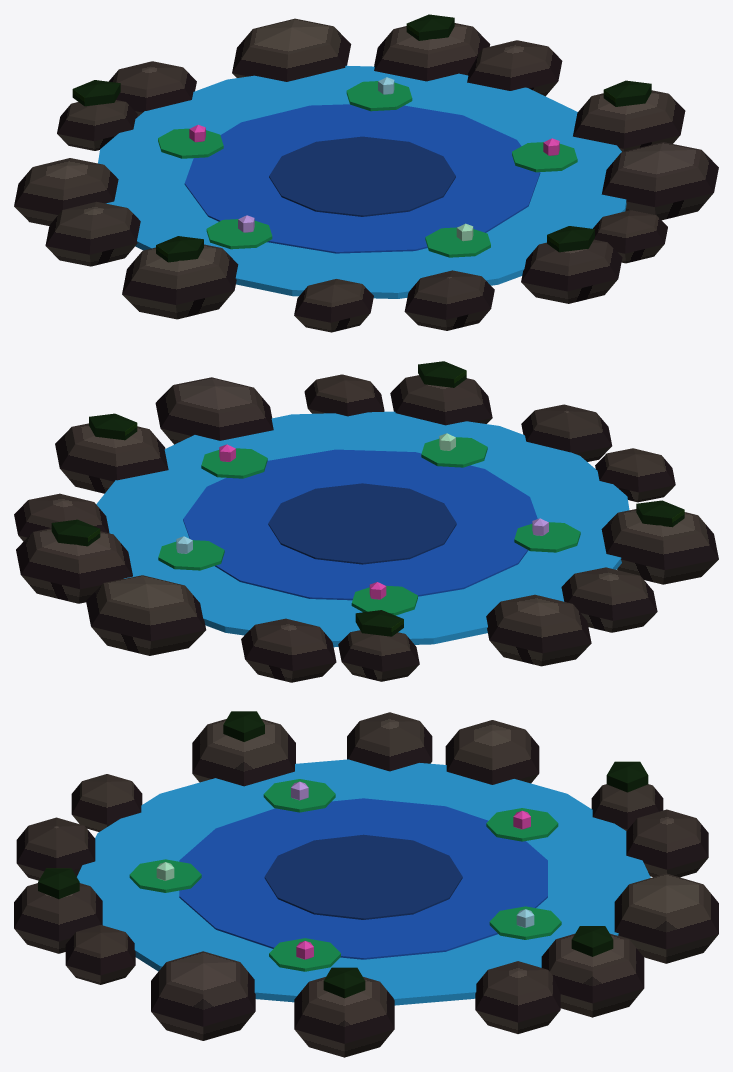
File: glow_pool.glb
3 renders of one model, top to bottom at view 1: azimuth 30°, elevation 25°; view 2: azimuth 150°, elevation 25°; view 3: azimuth 270°, elevation 25°, orthographic. The views are drawn at different scales.
Parts seen in each view (by area): view 1: glow_pool; view 2: glow_pool; view 3: glow_pool.
Part boxes in pixels (x1,y1,x2,y2): glow_pool: (14, 14, 718, 332); glow_pool: (14, 361, 718, 682); glow_pool: (14, 711, 718, 1057).
Size of the model in its own units: 4.21 by 0.4587 by 3.91.
3 materials, 2 textured.
